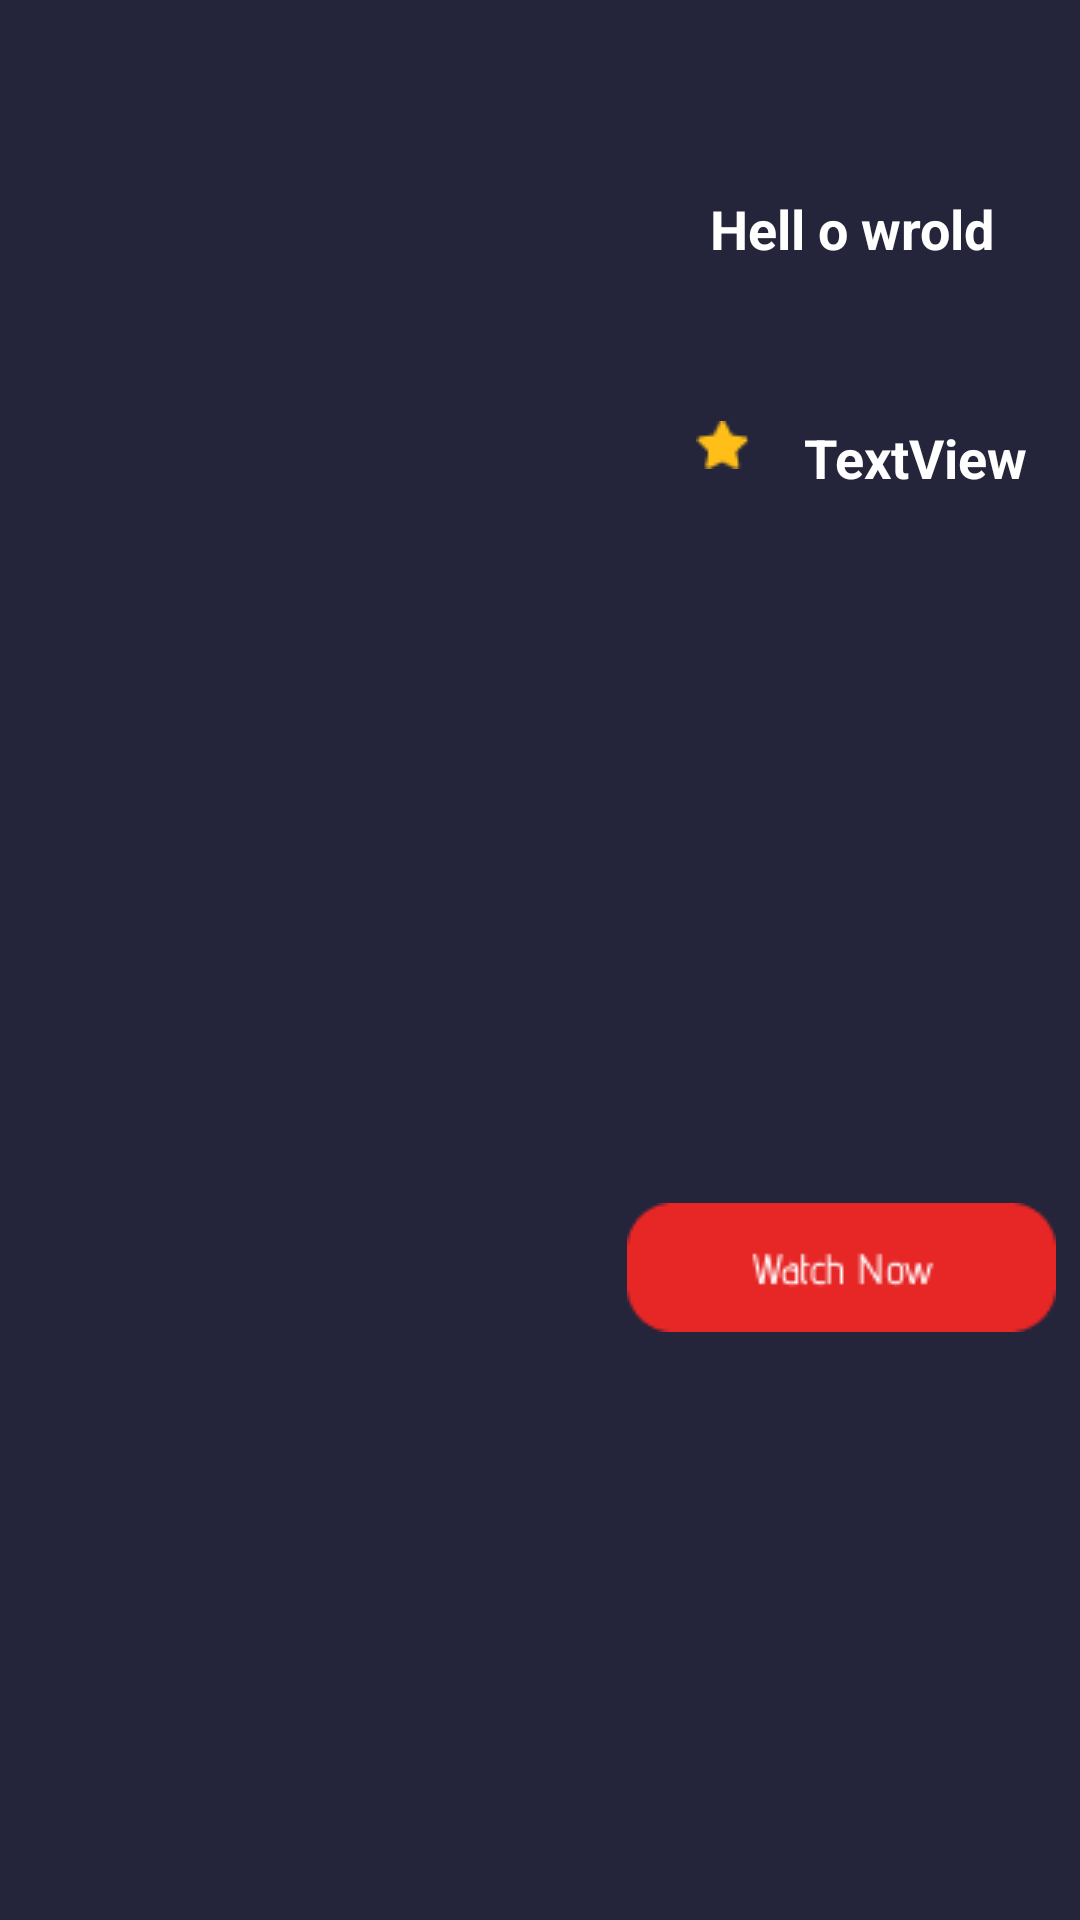

Point at icon controls on the screen. Image size 1080 x 1920, points as (x,y).
staricon: (722,445)
